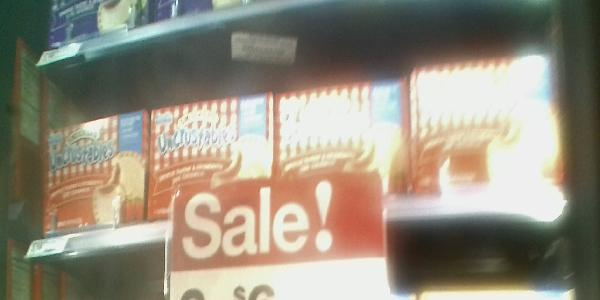icecream: (407, 56, 561, 215), (276, 78, 410, 255), (146, 90, 276, 243), (40, 107, 148, 242)
